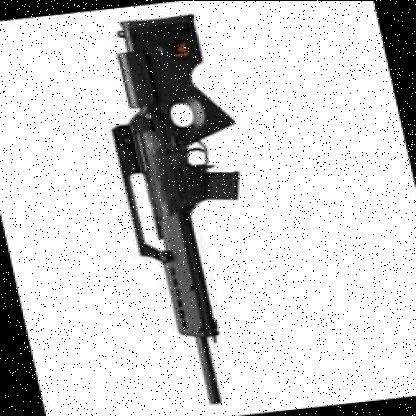rifle: (78, 10, 294, 414)
